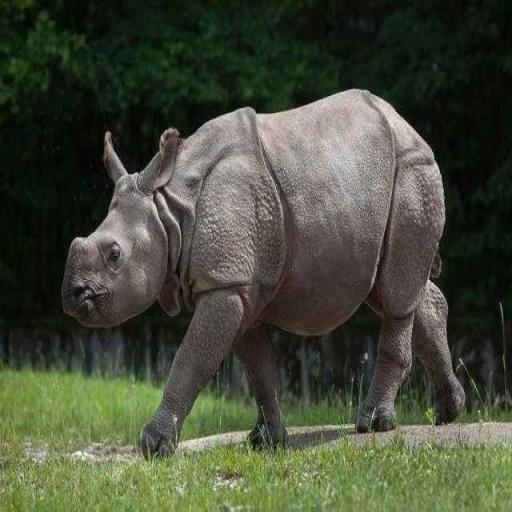Rhino: (60, 86, 466, 459)
